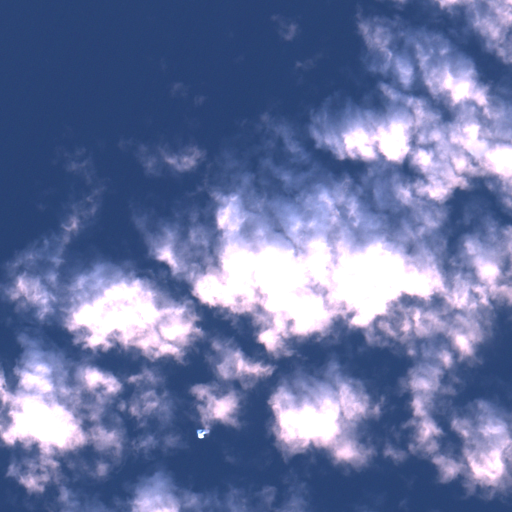Iceberg: (196, 429, 209, 438)
